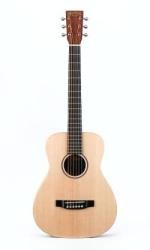guitar: (30, 9, 119, 240)
